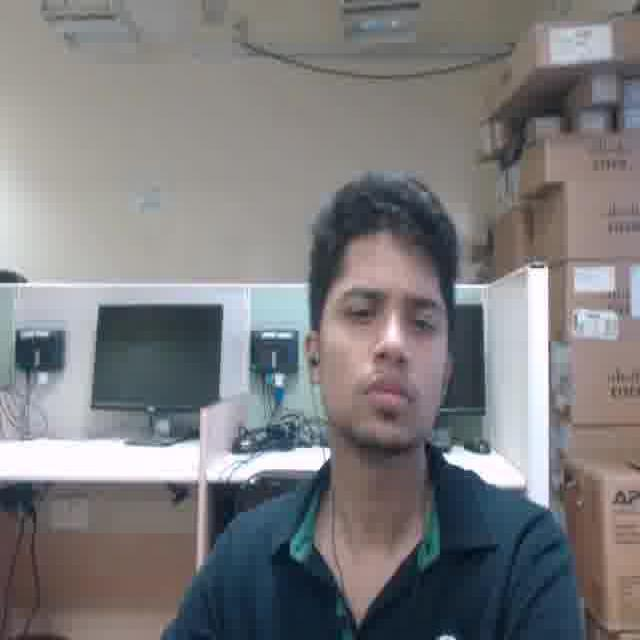Confusion: (317, 239, 443, 441)
